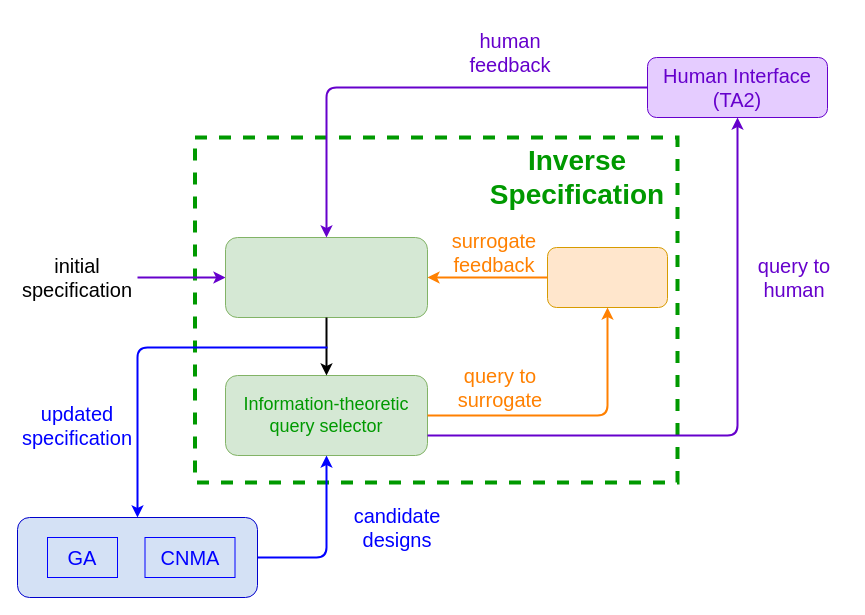
Some shapes in this 865 by 615 pixel diagram are drawn without their labels. The centre of each missing label's shape, as x and y in pixels:
"Learned Surrogate" goes at pixel 607 277.
"Specification Inference 1. Bayesian Update 2. Gradient Descent" goes at pixel 326 277.
